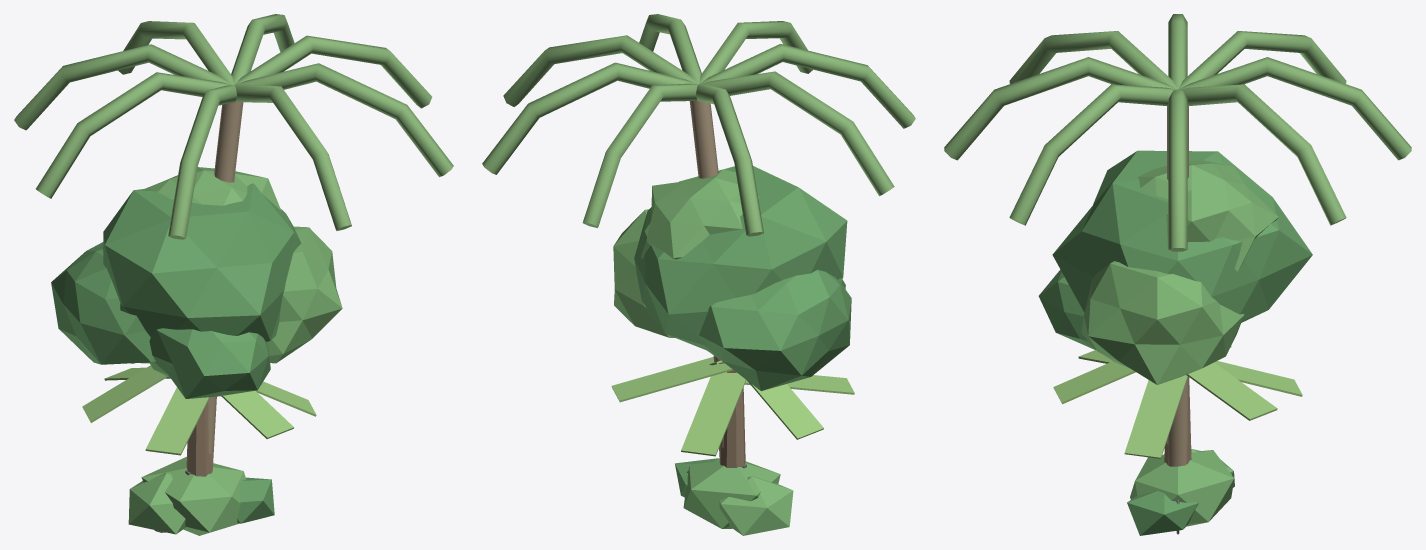
The model's file is props.glb.
3 renders of one model, left to right at view 1: azimuth 30°, elevation 25°; view 2: azimuth 150°, elevation 25°; view 3: azimuth 270°, elevation 25°, orthographic. The views are drawn at different scales.
Parts seen in each view (by area): view 1: KEEP Tree, KEEP Palm, KEEP Bush, KEEP Banana; view 2: KEEP Tree, KEEP Palm, KEEP Banana, KEEP Bush; view 3: KEEP Tree, KEEP Palm, KEEP Banana, KEEP Bush.
Boxes of the visible parts, <box> form: KEEP Tree: <box>51,167,342,476</box>; KEEP Palm: <box>14,14,453,471</box>; KEEP Bush: <box>128,456,274,535</box>; KEEP Banana: <box>82,365,316,455</box>; KEEP Tree: <box>613,166,851,467</box>; KEEP Palm: <box>482,14,915,464</box>; KEEP Banana: <box>611,357,854,456</box>; KEEP Bush: <box>675,458,793,535</box>; KEEP Tree: <box>1038,150,1312,465</box>; KEEP Palm: <box>944,14,1411,466</box>; KEEP Banana: <box>1053,346,1302,458</box>; KEEP Bush: <box>1127,449,1234,535</box>.
Size of the model in its own units: 6.79 by 7.81 by 6.79.
